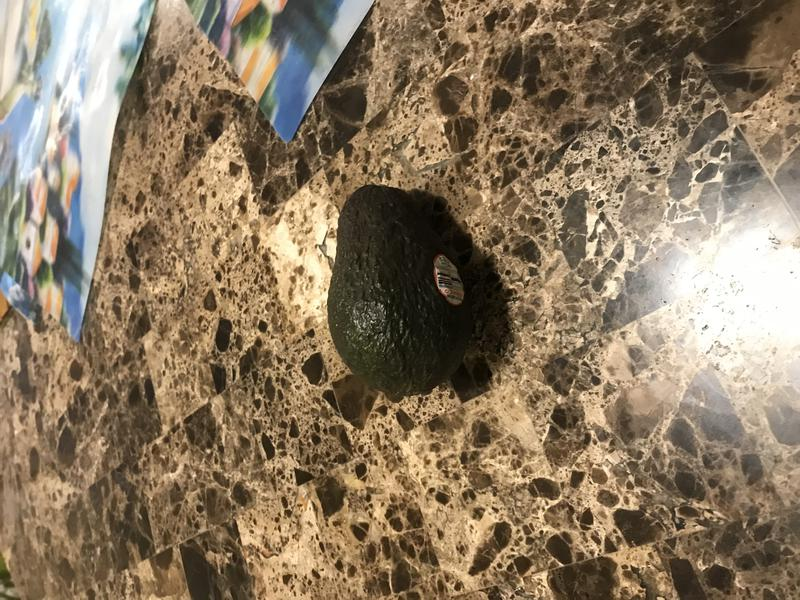avocado: (320, 178, 489, 408)
